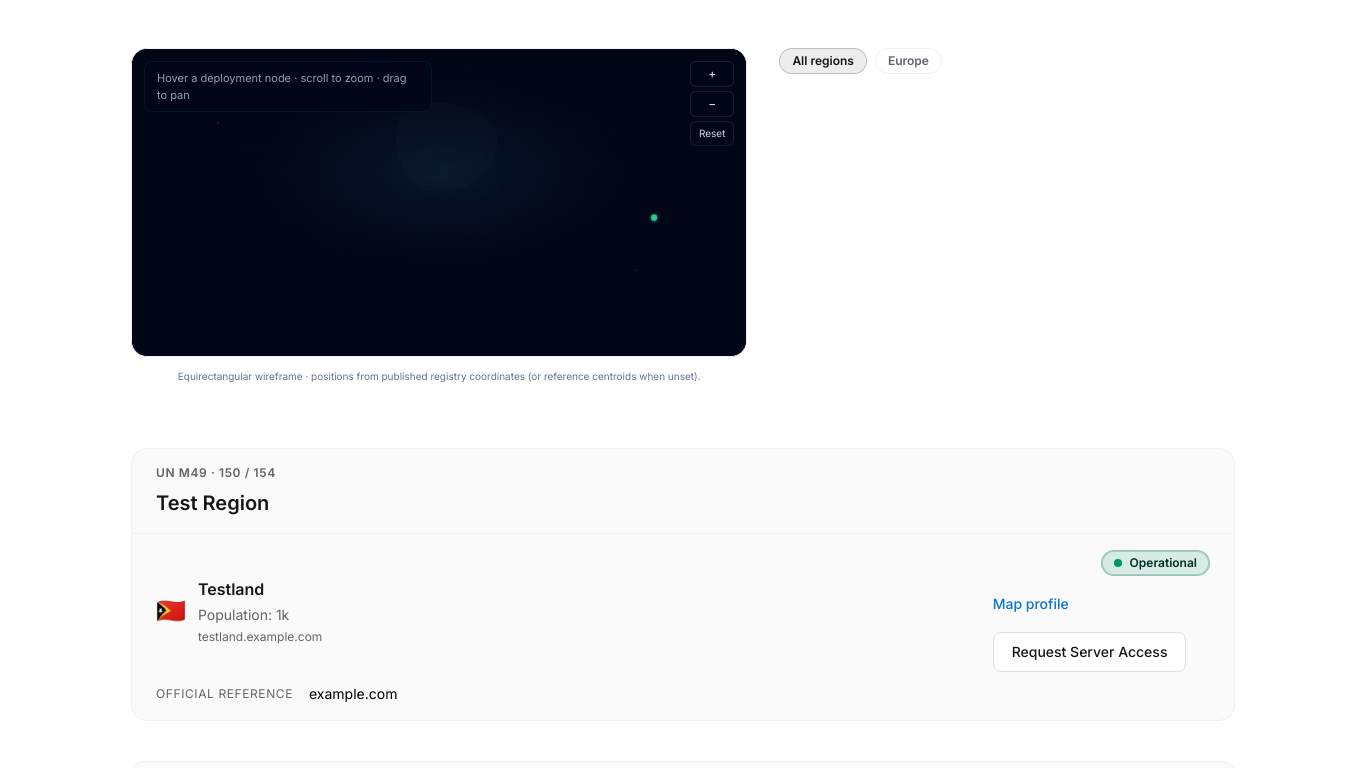
Test case: GlobalDeploymentView › expands a country row to show telcos
Click the button with aria-label "Registry row: Testland" at (231, 589), box [156,577,981,645]
(page scrolled)
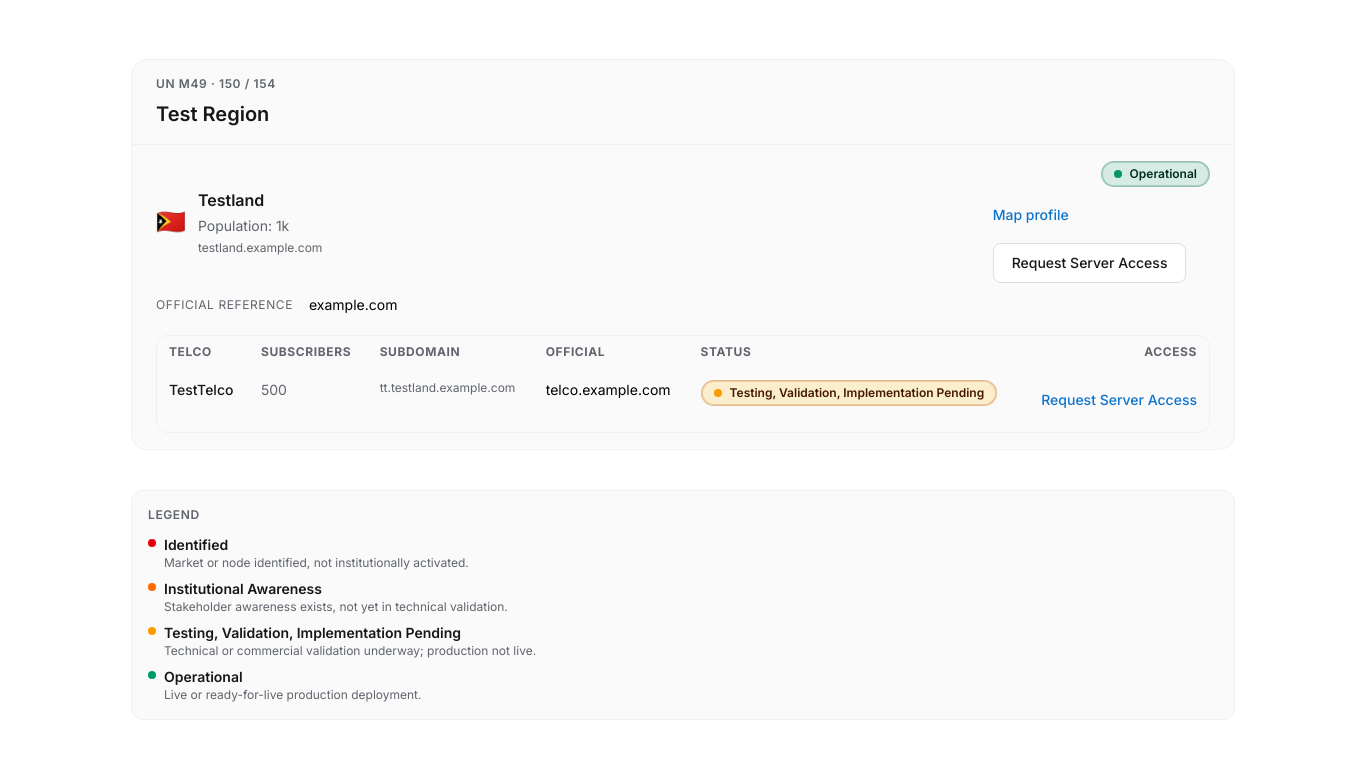
expect the button with aria-label "Registry row: Testland" is expanded: met, box [156,188,981,256]
expect the text "TestTelco" is shown: met, box [157,368,249,432]
